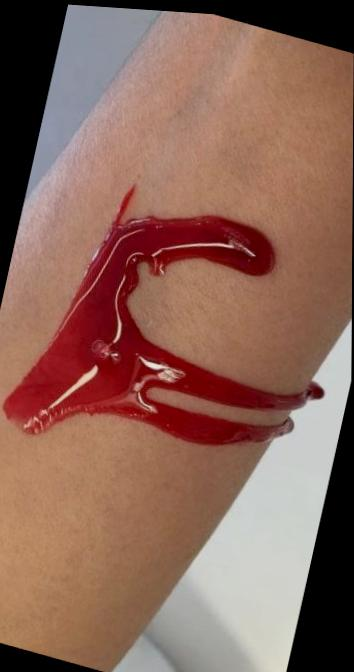Fire: (3, 182, 326, 444)
